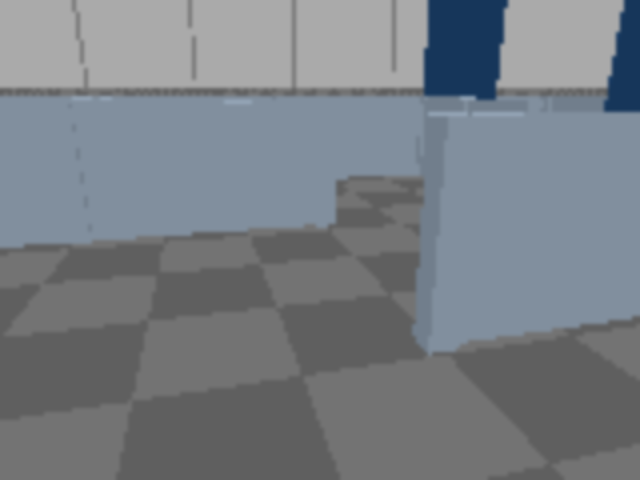person: (604, 0, 638, 238)
